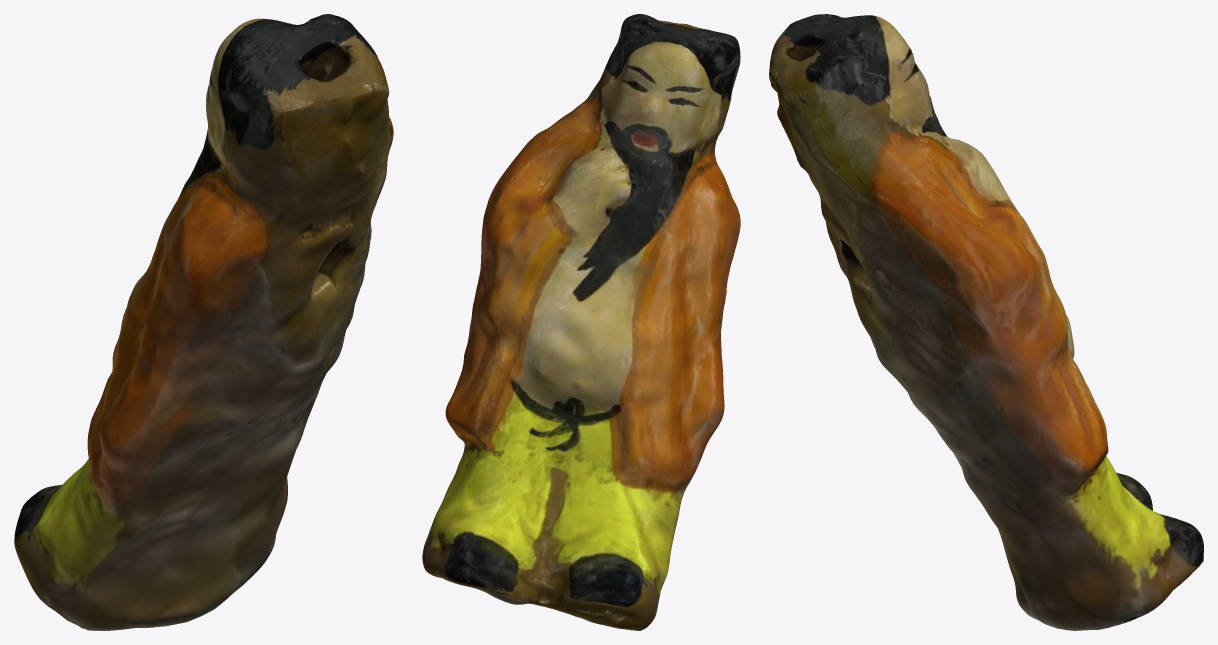
3 views of the same model, side by side, from view 1: azimuth 30°, elevation 25°; view 2: azimuth 150°, elevation 25°; view 3: azimuth 270°, elevation 25° (orthographic). The views are drawn at different scales.
Size of the model in its own units: 0.2957 by 0.6643 by 0.4449.
1 material, 1 textured.
